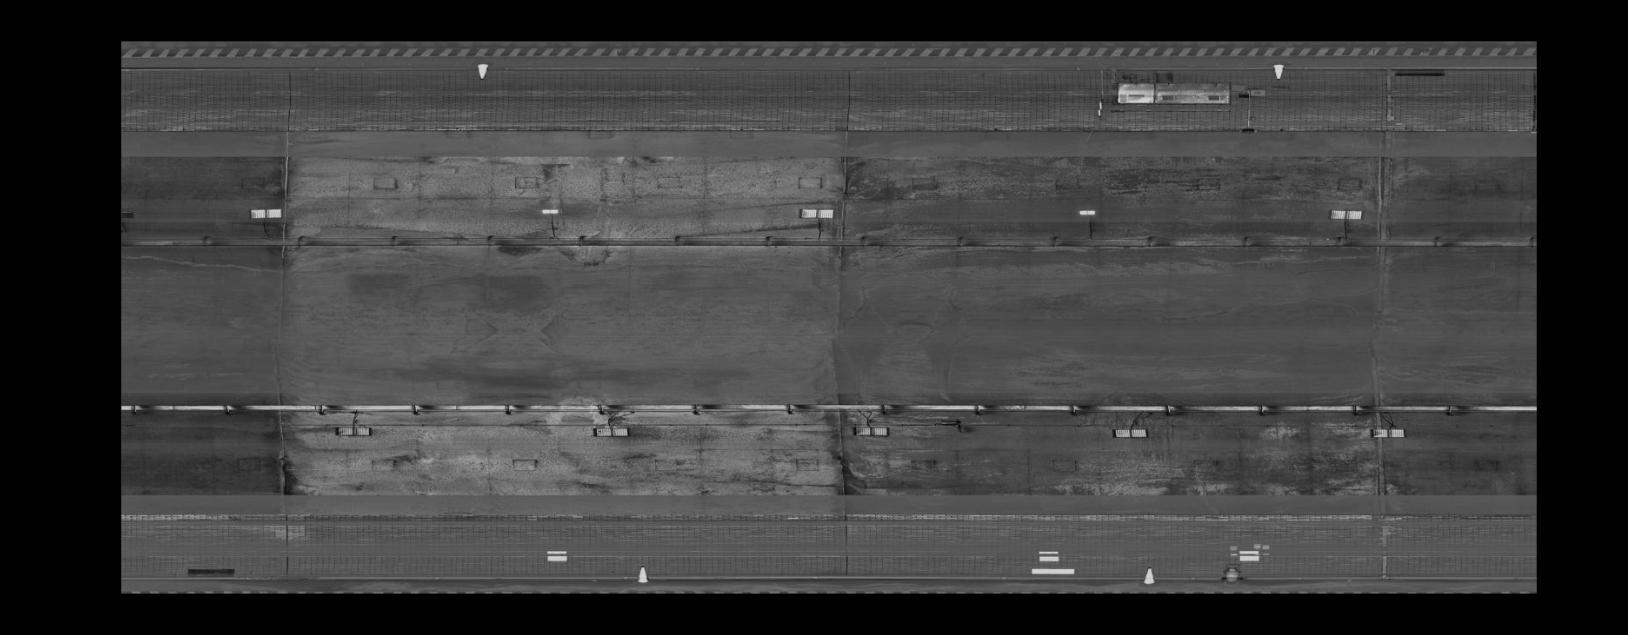light: (587, 424, 631, 441), (1108, 425, 1152, 442), (330, 423, 375, 439), (848, 423, 892, 439), (1324, 208, 1366, 222), (1367, 425, 1408, 440), (244, 204, 283, 219), (797, 205, 836, 220), (1074, 208, 1102, 217), (536, 208, 564, 216)
